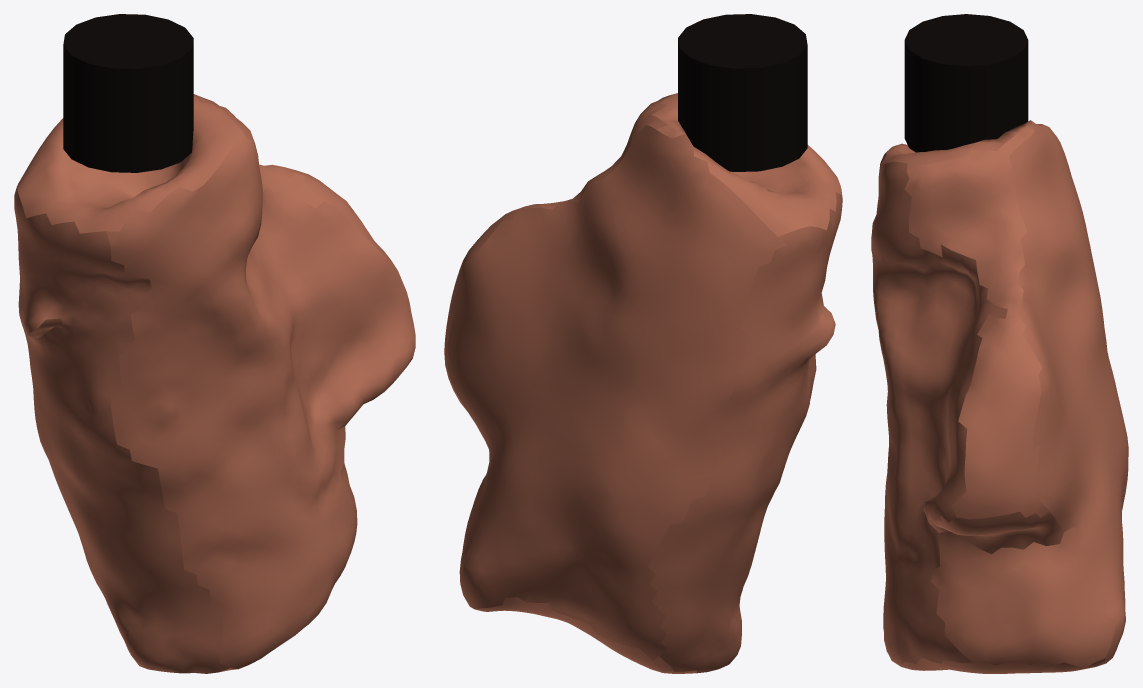
Rendered from facejar.fbx.
3 views of the same model, side by side, from view 1: azimuth 30°, elevation 25°; view 2: azimuth 150°, elevation 25°; view 3: azimuth 270°, elevation 25° (orthographic). The views are drawn at different scales.
Parts seen in each view (by area): view 1: Object, Cylinder; view 2: Object, Cylinder; view 3: Object, Cylinder.
Part boxes in pixels (x1=…): Object: x1=14, y1=94, x2=415, y2=673; Cylinder: x1=63, y1=14, x2=193, y2=172; Object: x1=444, y1=93, x2=842, y2=673; Cylinder: x1=678, y1=14, x2=807, y2=171; Object: x1=871, y1=120, x2=1128, y2=673; Cylinder: x1=904, y1=14, x2=1028, y2=152.
Bounding box in the file's own units: 3.96 × 6.33 × 2.47.
